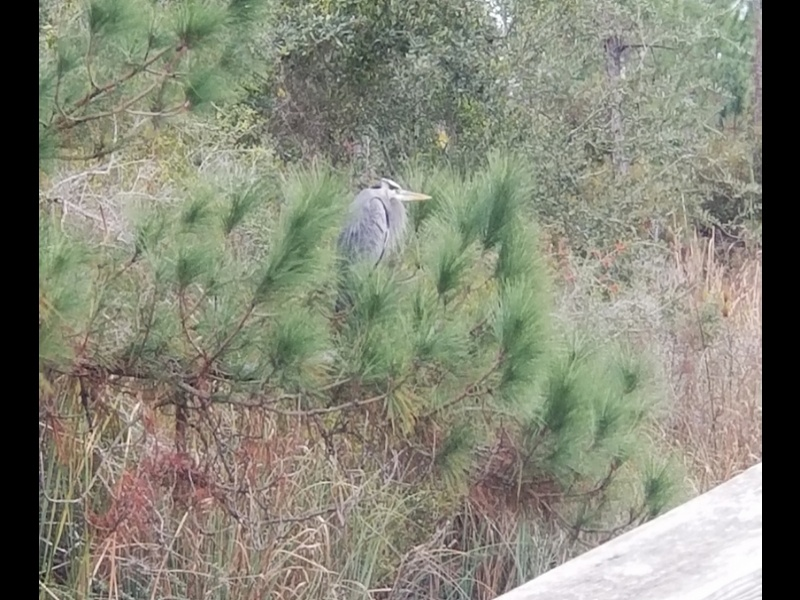heron: (334, 175, 434, 323)
